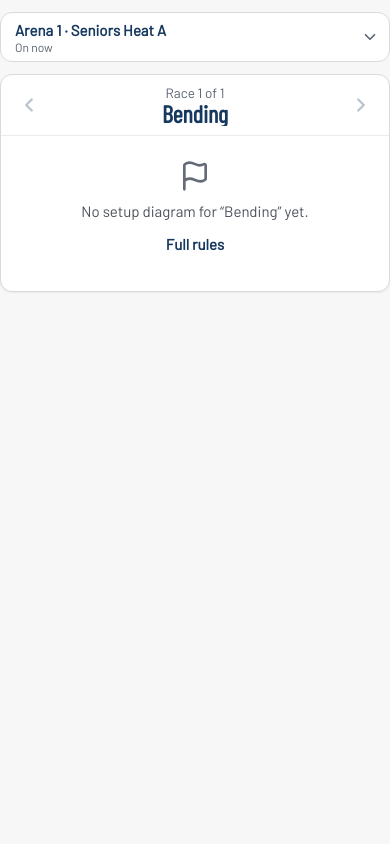
Scenario: counts a session with no arena in every arena
The image size is (390, 844).
Check: the heading "Bending" is shown, box [162,101,228,126]
Click the button "Arena 1 · Seniors Heat A On now": (91, 30) [0,12,389,62]
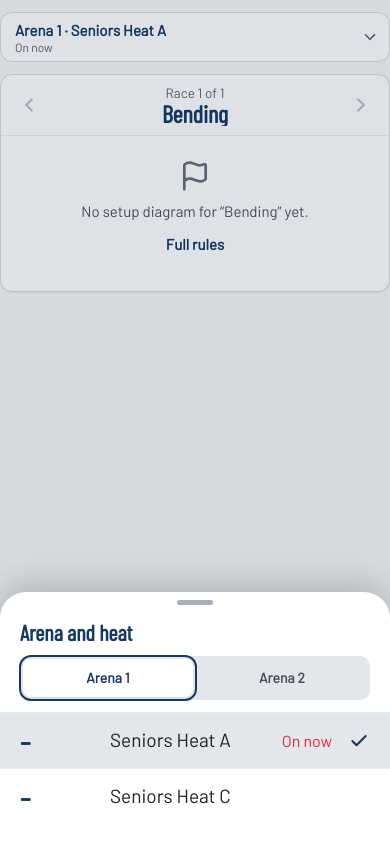
Click the tab "Arena 2": (282, 678) [197,659,367,697]
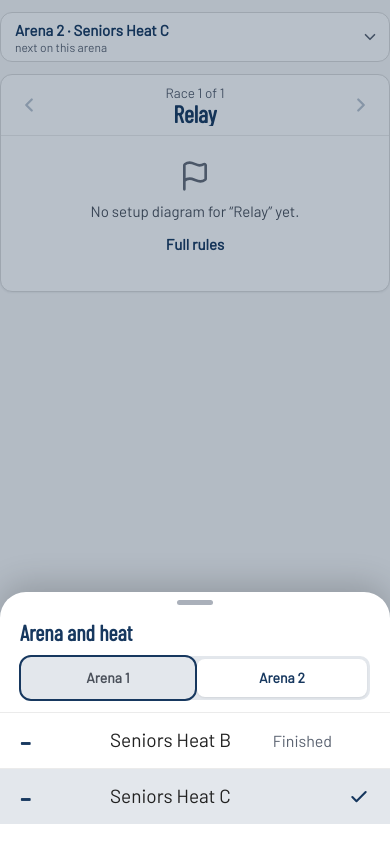
Check: the heading "Relay" is shown, box [173,101,217,126]
